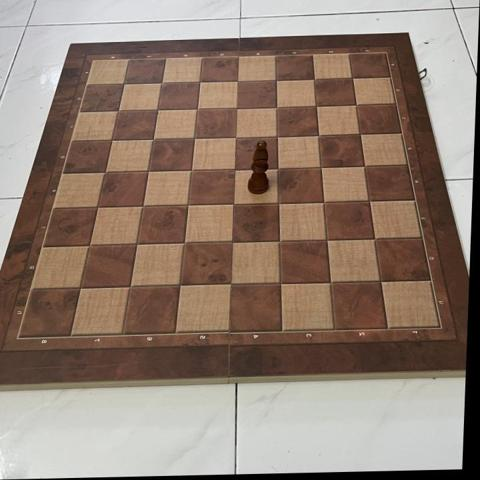xcorner: (114, 74, 132, 92), (152, 73, 170, 91), (108, 101, 126, 119), (95, 163, 113, 181), (88, 198, 106, 216), (133, 197, 151, 215), (80, 236, 98, 254), (127, 235, 145, 253), (222, 233, 240, 251), (270, 232, 288, 250), (365, 230, 383, 248), (71, 279, 89, 297), (321, 273, 339, 291), (371, 272, 389, 290), (190, 73, 208, 90), (228, 72, 246, 89), (266, 71, 284, 88), (227, 99, 245, 116), (267, 98, 285, 115), (102, 131, 120, 148), (143, 130, 161, 147), (226, 128, 244, 145), (309, 126, 327, 143), (225, 160, 243, 177), (268, 159, 286, 176), (355, 157, 373, 174), (178, 196, 196, 213), (269, 194, 287, 211), (314, 193, 332, 210), (175, 234, 192, 252), (318, 231, 335, 249), (121, 278, 139, 295), (271, 274, 288, 292), (305, 70, 322, 87), (343, 69, 360, 86), (148, 101, 165, 118), (188, 100, 205, 117), (307, 97, 324, 114), (347, 96, 364, 113), (185, 129, 202, 146), (268, 127, 285, 144), (351, 125, 368, 142), (139, 162, 156, 179), (182, 161, 199, 178), (312, 158, 329, 175), (224, 195, 241, 212), (360, 192, 377, 209), (171, 277, 188, 294), (221, 276, 238, 293)
